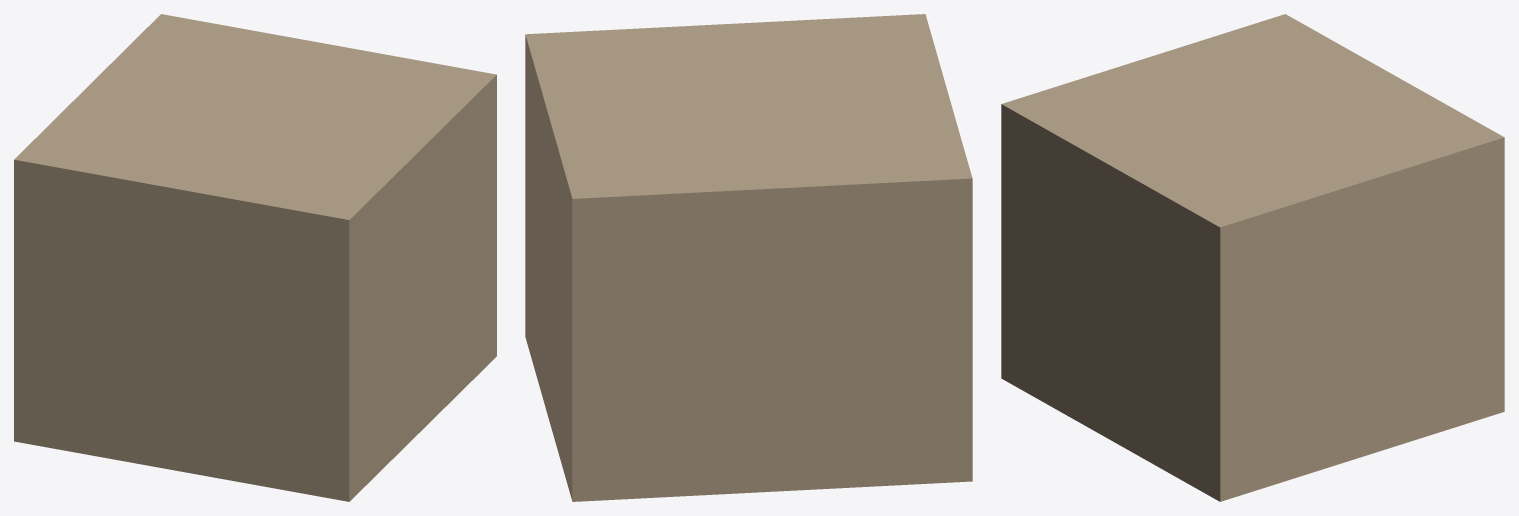
File: bld_106456259.dae
3 views of the same model, side by side, from view 1: azimuth 30°, elevation 25°; view 2: azimuth 150°, elevation 25°; view 3: azimuth 270°, elevation 25° (orthographic). The views are drawn at different scales.
Parts seen in each view (by area): view 1: bld_106456259; view 2: bld_106456259; view 3: bld_106456259.
Boxes of the visible parts, x1=… form: bld_106456259: x1=14, y1=14, x2=496, y2=501; bld_106456259: x1=525, y1=14, x2=972, y2=501; bld_106456259: x1=1001, y1=14, x2=1504, y2=501.
Size of the model in its own units: 13.35 by 13.29 by 8.
